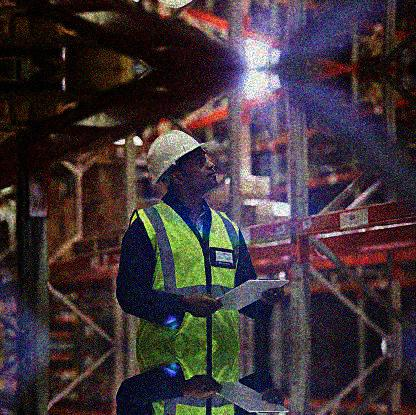helmet: (141, 130, 219, 211)
